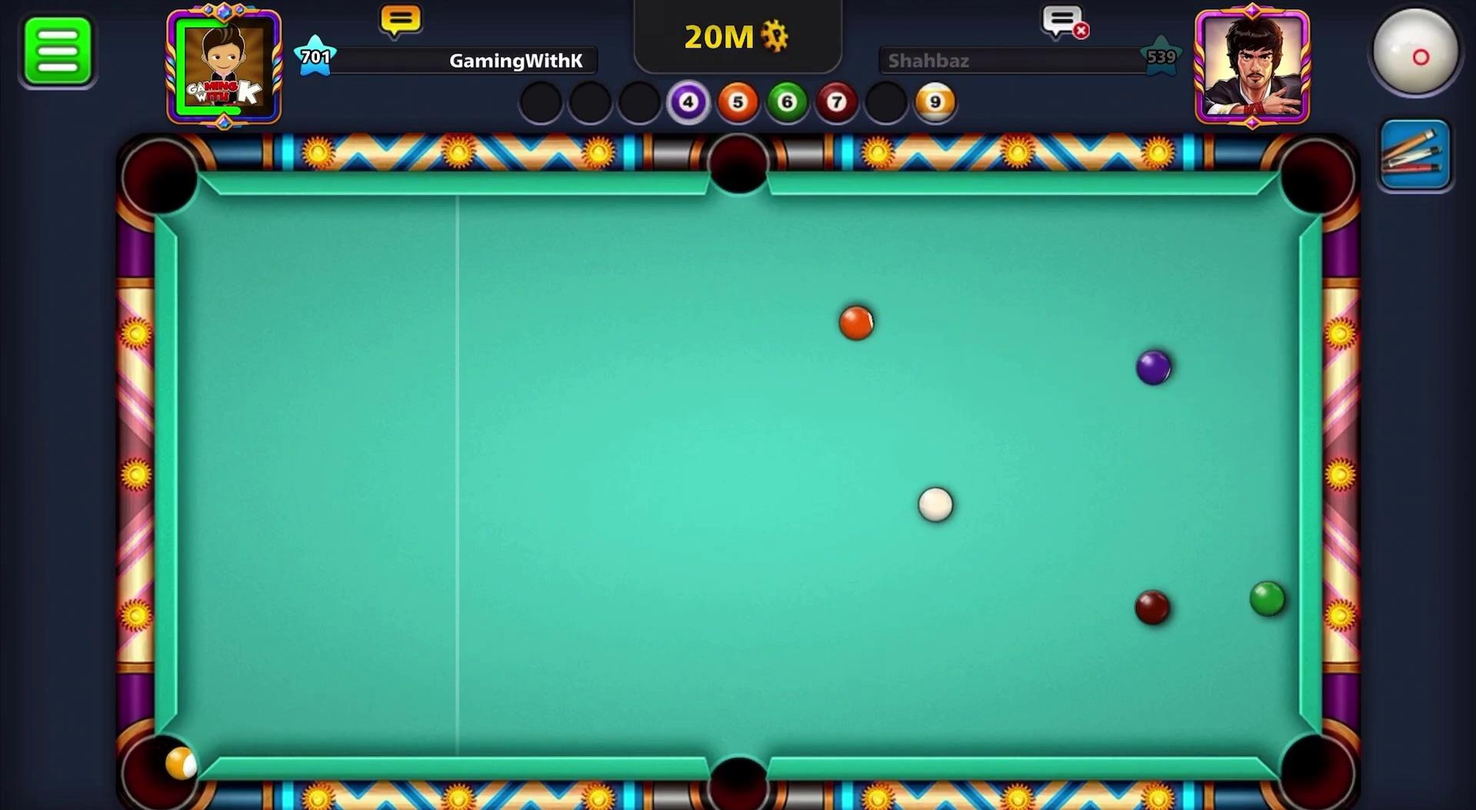Ball: (833, 299, 880, 346), (1134, 343, 1178, 391), (1131, 585, 1176, 629)
Hole: (108, 129, 212, 229), (1268, 131, 1365, 231), (1267, 710, 1363, 809), (111, 719, 210, 809), (693, 124, 784, 208), (685, 735, 785, 809)
Play_Area: (177, 193, 1307, 762)
Spin: (1343, 0, 1475, 115)
White: (911, 482, 960, 527)
